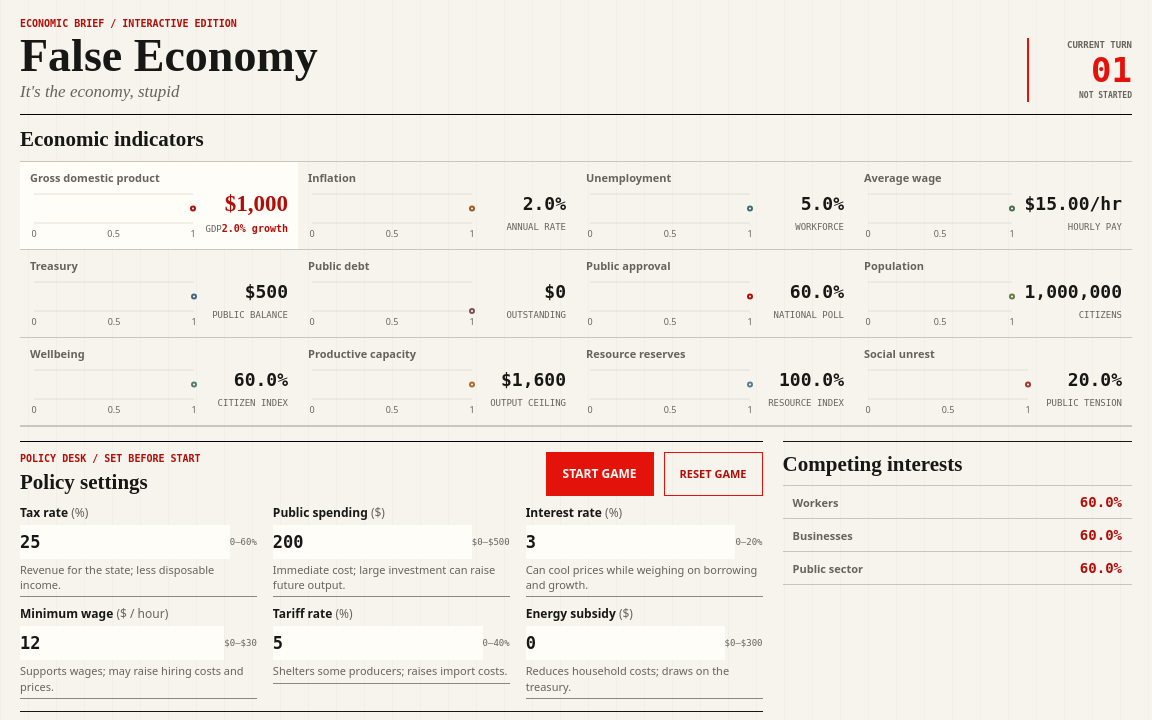
it: Economy Simulator interface › shows a fallback when starting fails without an Error object
The width and height of the screenshot is (1152, 720).
Expected: the element named "Turn 1" is shown, left=1027, top=38, right=1132, bottom=102
Click the button "Start game" at (600, 474), box left=546, top=452, right=654, bottom=496
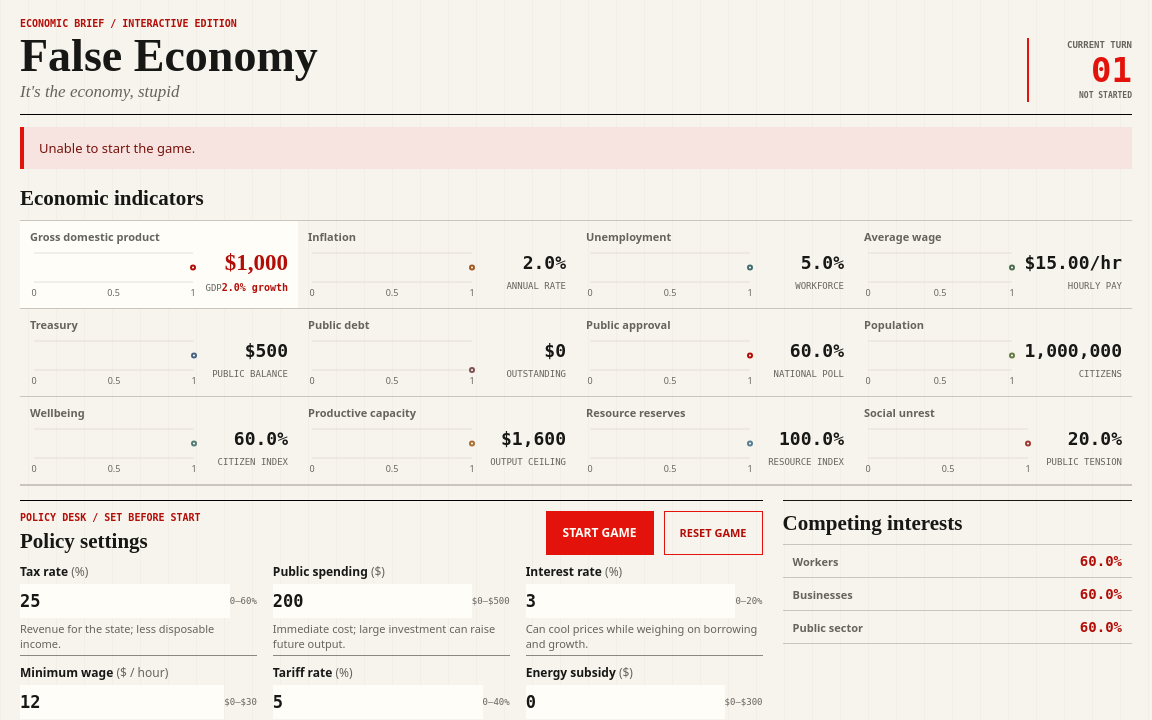
Result: the message reads "Unable to start the game." at left=39, top=140, right=195, bottom=158
